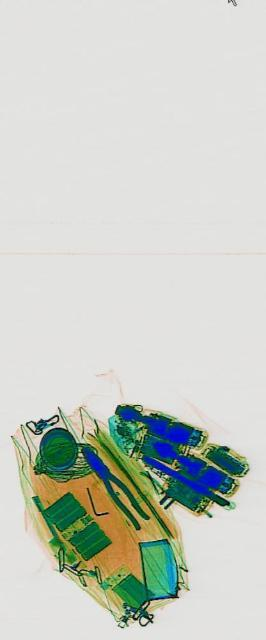Pliers: (76, 432, 148, 540)
